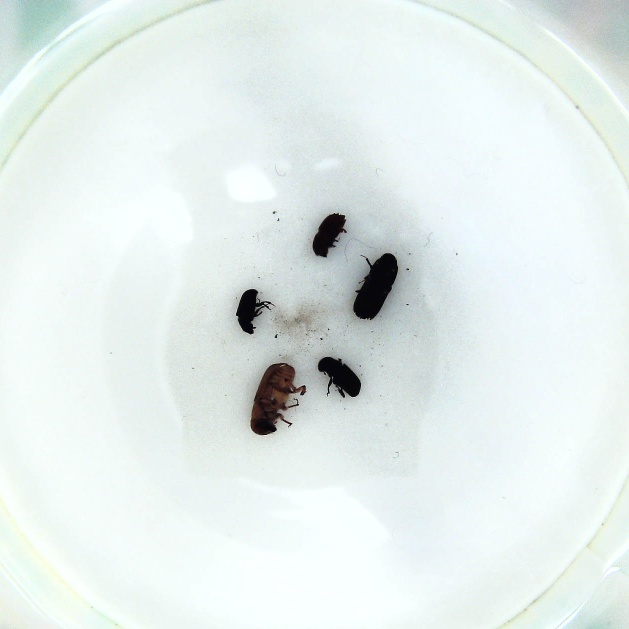armandi: (314, 354, 364, 401)
boerner: (352, 250, 402, 323)
coleoptera: (233, 286, 275, 336)
leconte: (249, 361, 310, 437)
linnaeus: (311, 209, 350, 258)
